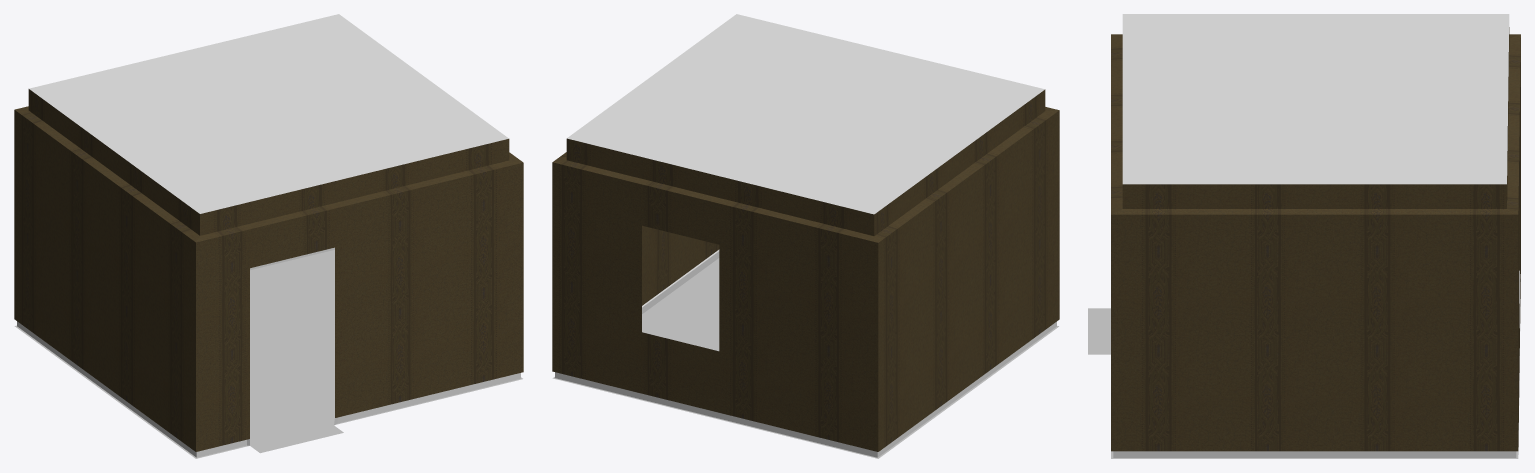
Rendered from Room.fbx.
3 views of the same model, side by side, from view 1: azimuth 30°, elevation 25°; view 2: azimuth 150°, elevation 25°; view 3: azimuth 270°, elevation 25° (orthographic). The views are drawn at different scales.
Parts seen in each view (by area): view 1: polySurface475; view 2: polySurface475; view 3: polySurface475.
Boxes of the visible parts, <box> form: polySurface475: <box>14,14,523,458</box>; polySurface475: <box>552,14,1059,458</box>; polySurface475: <box>1088,14,1520,458</box>.
Size of the model in its own units: 1006 by 701 by 1020.
